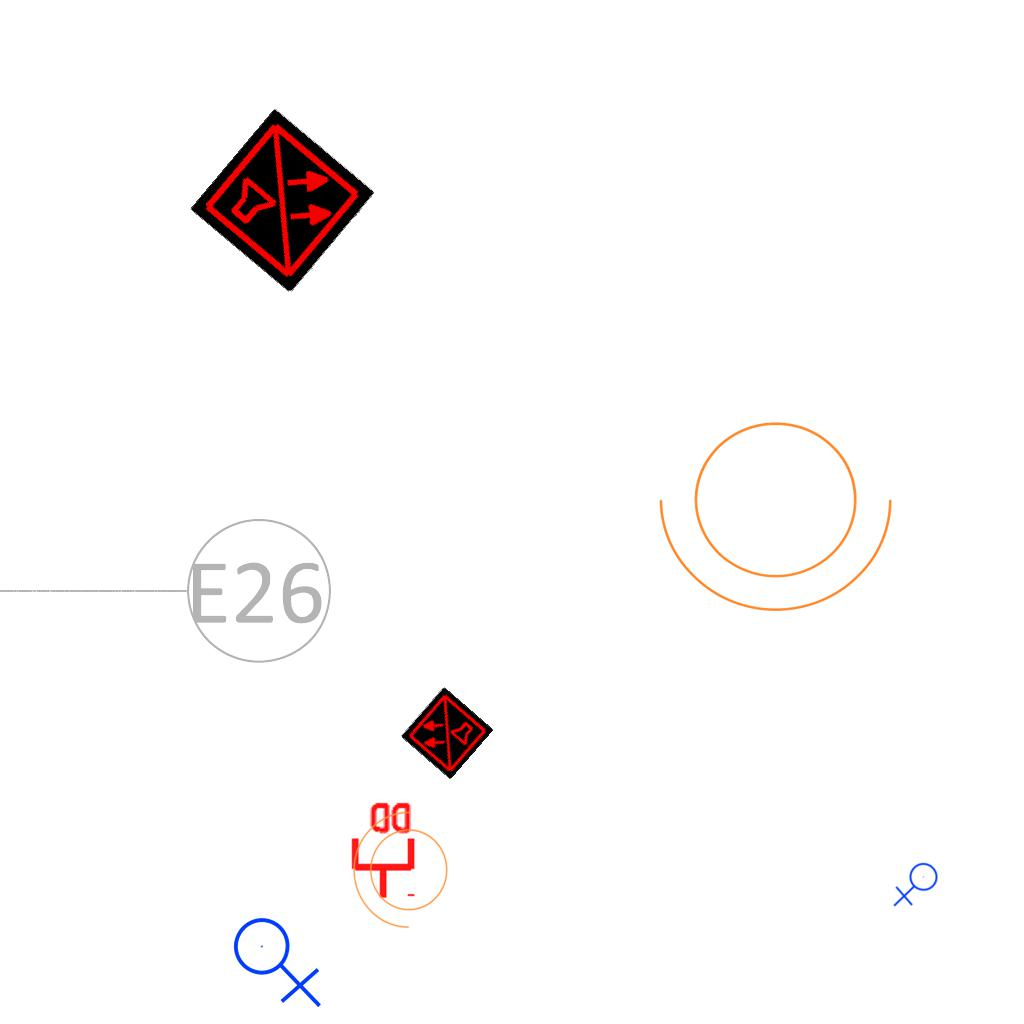Datenanschluss_zweifach: (347, 798, 416, 901)
Elektroanschluss_allgemein_230V_Geraeteanschlussdose_230V: (232, 909, 326, 1008), (893, 862, 942, 909)
OKW_Multisensormelder_(Kombination_optischer_Rauch-Kahlenmonoxid_Waerme-Melder): (190, 108, 376, 294), (400, 686, 494, 780)
Scheinwerfer_fuer_Alarmbeleuchtung: (650, 397, 914, 622), (348, 807, 460, 939)
